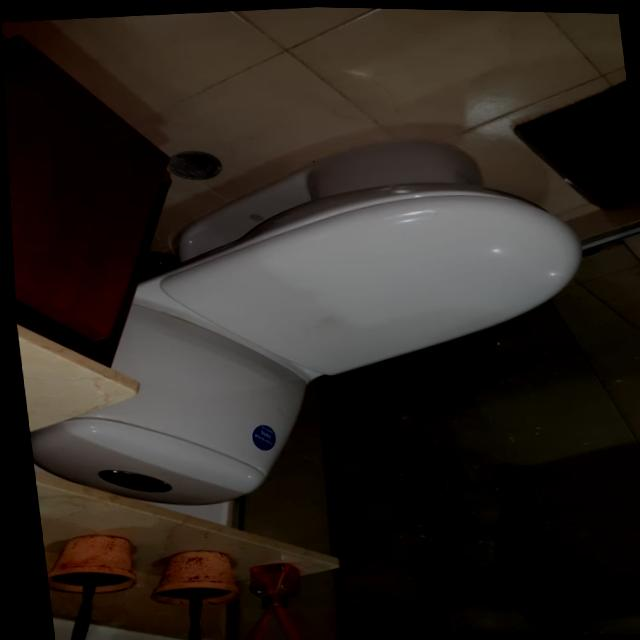toilet: (5, 120, 608, 523)
